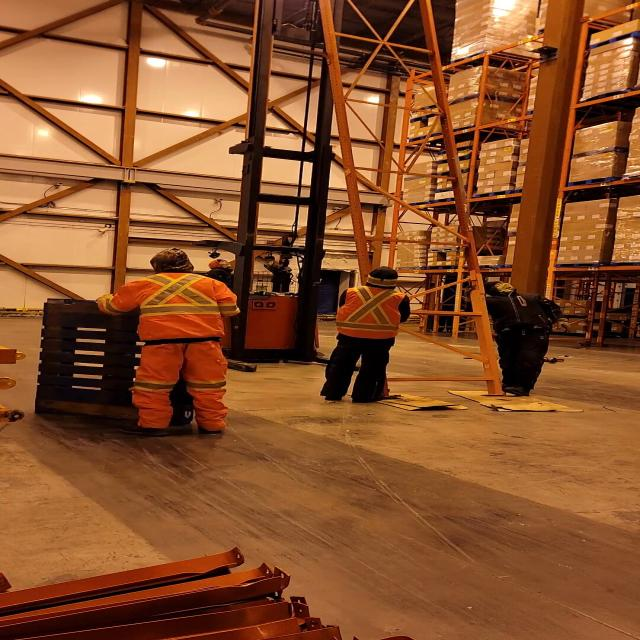forklift: (184, 140, 357, 375)
human: (90, 246, 248, 440), (318, 266, 414, 404), (467, 277, 564, 398), (196, 257, 260, 293)
objectofinterest: (320, 2, 516, 402), (29, 296, 198, 426), (444, 386, 585, 414), (355, 390, 470, 412)
